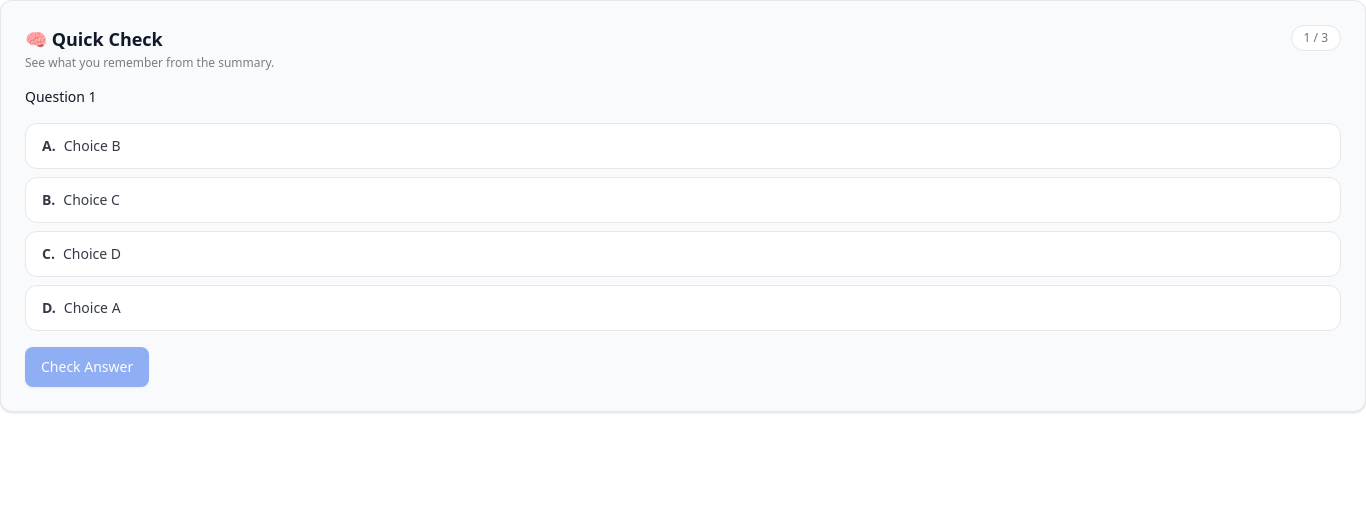
Test: PublicMiniQuizPreview › shows feedback and Next Question button after answering a non-last question
Click the button "D.Choice A" at coordinates (92, 308), box [25,285,1341,331]
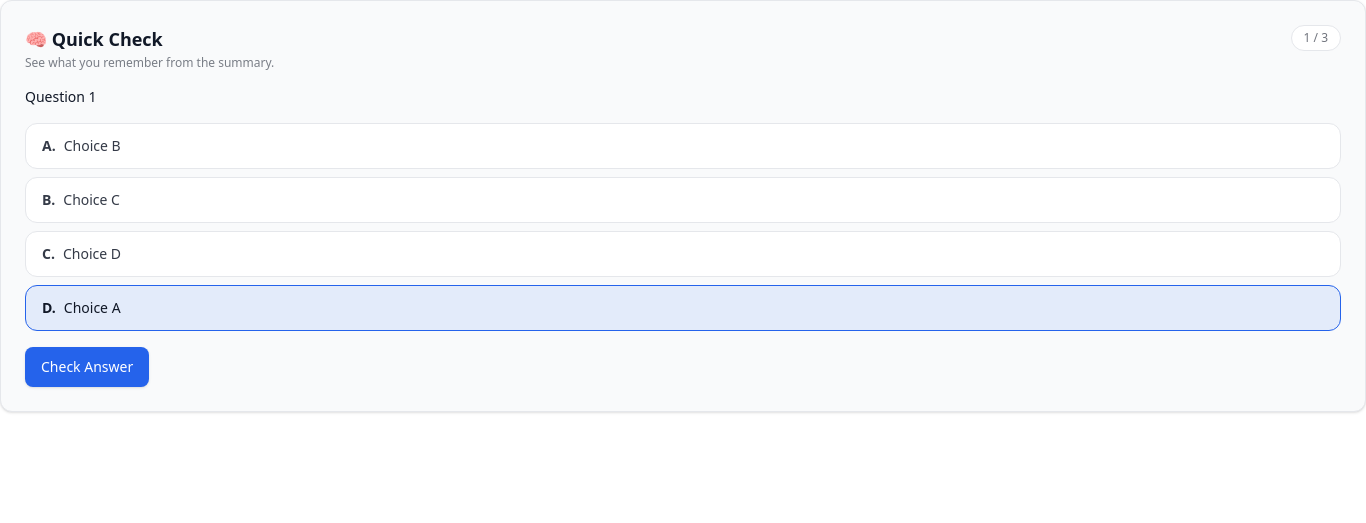
Click the button "Check Answer" at coordinates (87, 367), box [25,347,149,387]
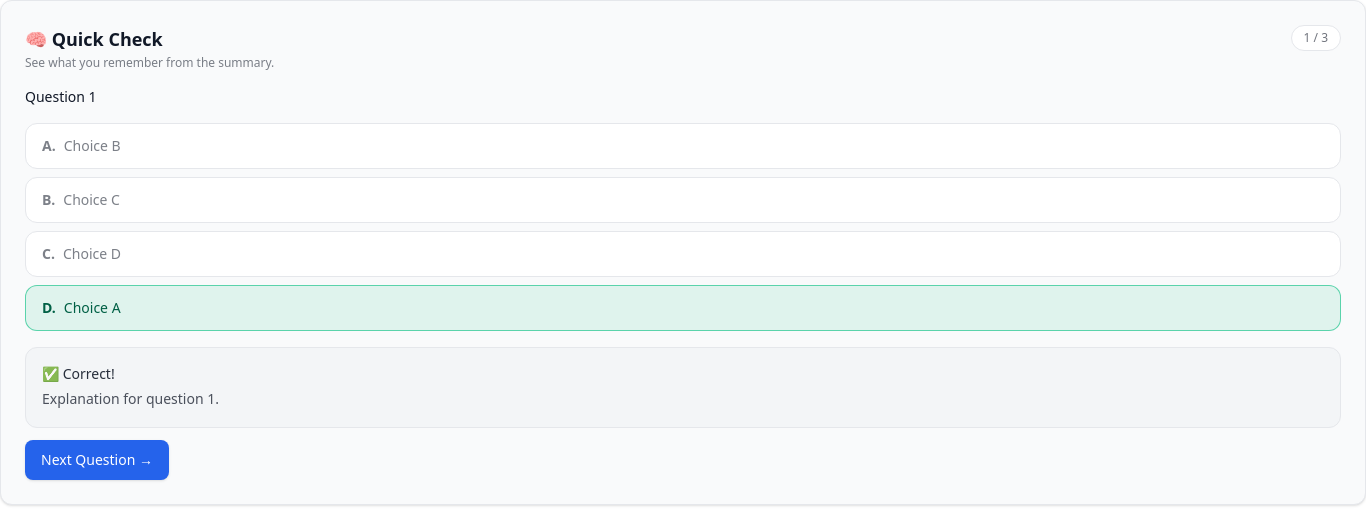
Expected: the text "1 / 3" is shown, [1290,25,1341,51]
Now the button "Check Answer" is gone
Now the button "Next Question →" is shown, box [25,440,169,480]
